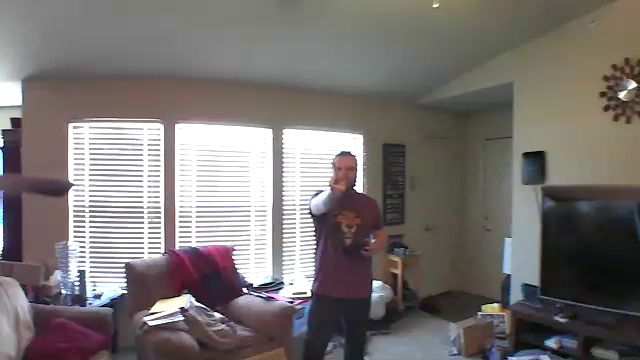peace: (322, 156, 355, 192)
